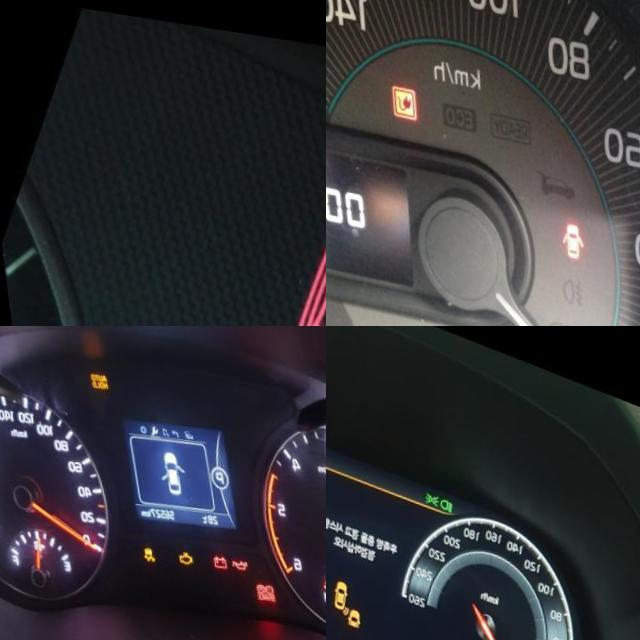Doors: (552, 209, 579, 248)
Low beam: (434, 482, 451, 501)
SideLamp: (418, 476, 438, 497)
